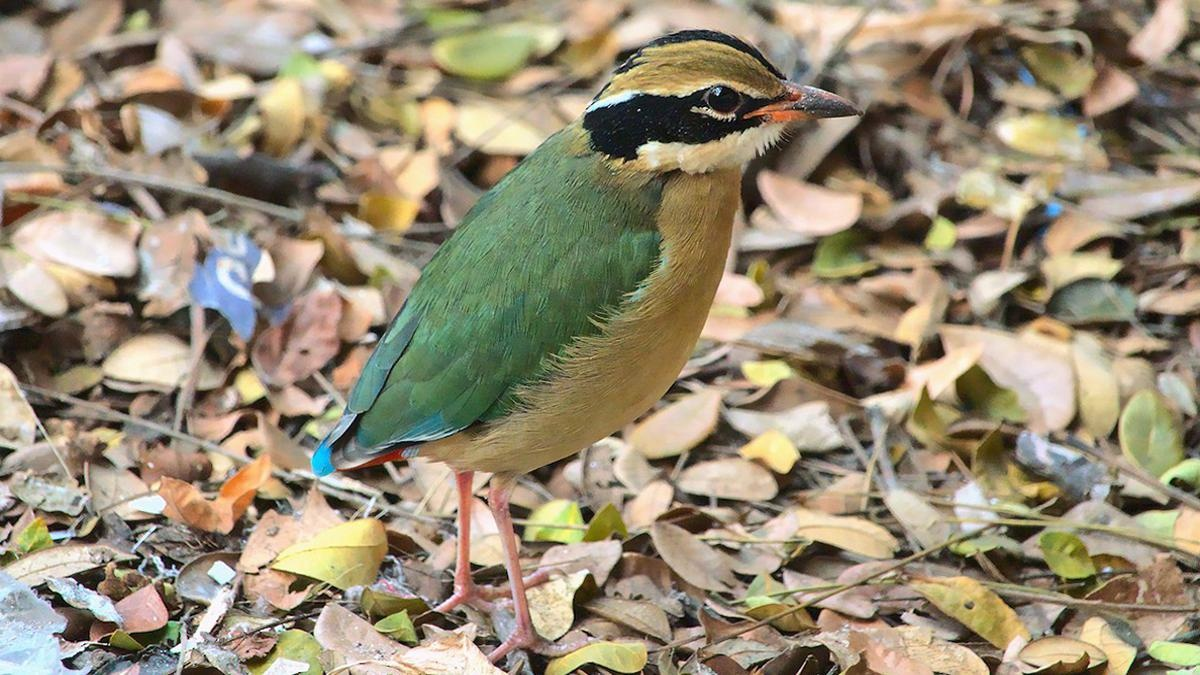pitta: (304, 15, 856, 543)
